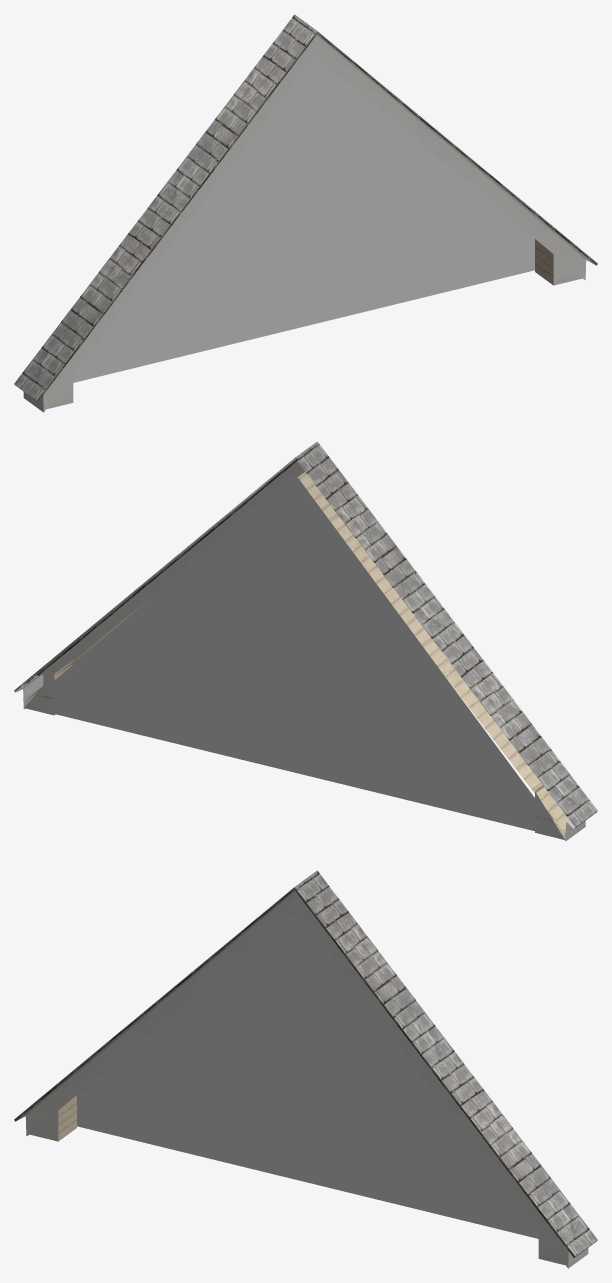
File: Roof_End_5x_COL.FBX
3 renders of one model, top to bottom at view 1: azimuth 30°, elevation 25°; view 2: azimuth 150°, elevation 25°; view 3: azimuth 330°, elevation 25°, orthographic.
Visible parts, largest first — view 1: Roof_End_5x_COL; view 2: Roof_End_5x_COL; view 3: Roof_End_5x_COL.
Part boxes in pixels (x1,y1,x2,y2): Roof_End_5x_COL: (14, 14, 597, 412); Roof_End_5x_COL: (14, 441, 597, 841); Roof_End_5x_COL: (14, 870, 597, 1268).
Bounding box in the file's own units: 584 × 316 × 40.91.
